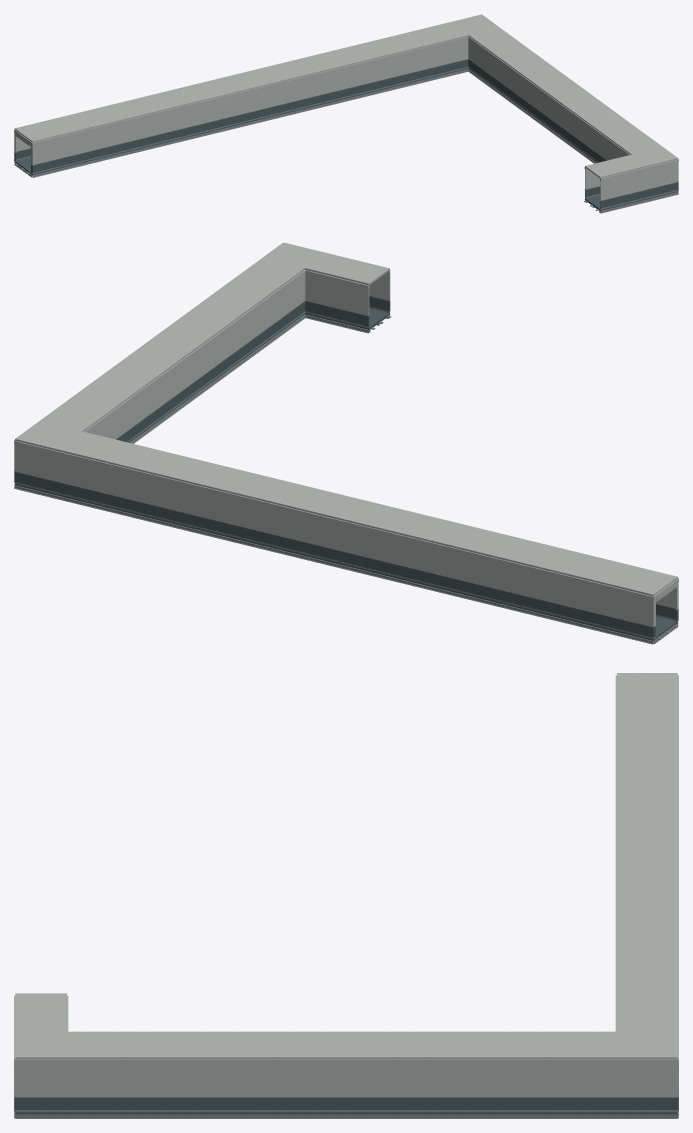
File: OBSERVATION_CAFE_SERVICE_RECEIVER_r001.glb
3 renders of one model, top to bottom at view 1: azimuth 30°, elevation 25°; view 2: azimuth 150°, elevation 25°; view 3: azimuth 270°, elevation 25°, orthographic. The views are drawn at different scales.
Parts seen in each view (by area): view 1: OCS_BATCH_001, OCS_BATCH_000, OCS_BATCH_002; view 2: OCS_BATCH_001, OCS_BATCH_000, OCS_BATCH_002; view 3: OCS_BATCH_001, OCS_BATCH_000, OCS_BATCH_002.
Part boxes in pixels (x1,y1,x2,y2): OCS_BATCH_001: (14,14,678,200); OCS_BATCH_000: (14,59,678,210); OCS_BATCH_002: (14,58,678,213); OCS_BATCH_001: (14,242,678,626); OCS_BATCH_000: (14,296,678,641); OCS_BATCH_002: (14,295,678,644); OCS_BATCH_001: (14,673,678,1096); OCS_BATCH_000: (14,1097,678,1114); OCS_BATCH_002: (14,1063,678,1118).
Size of the model in its own units: 60.39 by 4.44 by 43.88.
Materials: 4 (3 with a texture image).
